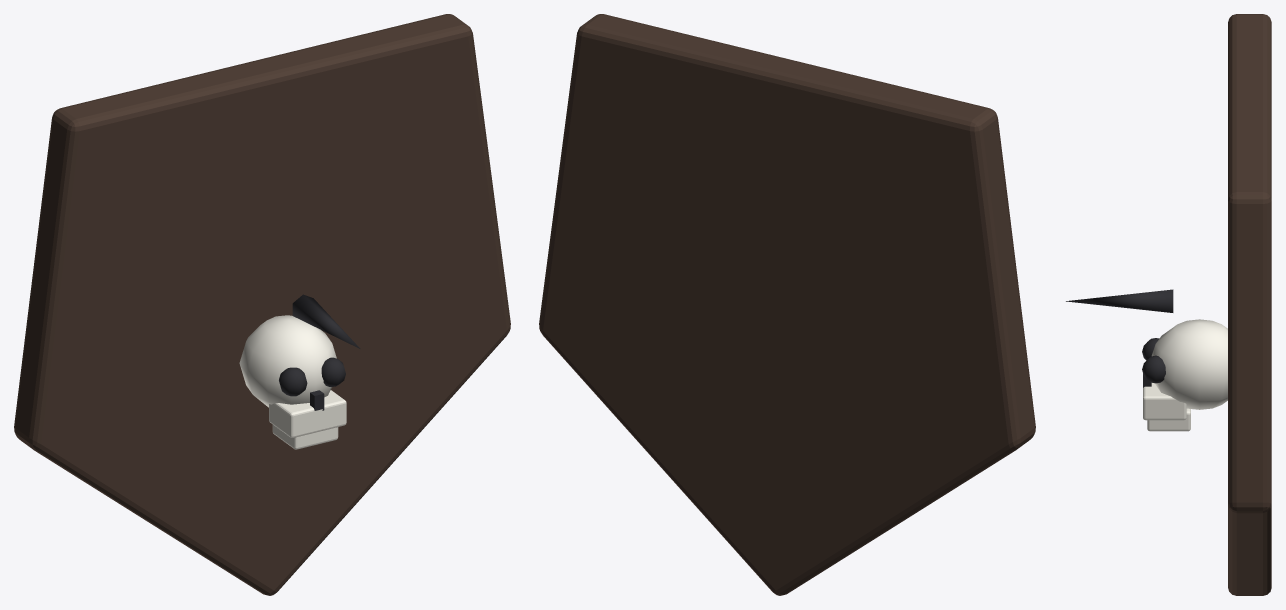
The model's file is skull_mount_raven.glb.
3 renders of one model, left to right at view 1: azimuth 30°, elevation 25°; view 2: azimuth 150°, elevation 25°; view 3: azimuth 270°, elevation 25°, orthographic. The views are drawn at different scales.
Parts seen in each view (by area): view 1: GD_skull_mount_raven__m0, GD_skull_mount_raven__m1, GD_skull_mount_raven__m2; view 2: GD_skull_mount_raven__m0; view 3: GD_skull_mount_raven__m0, GD_skull_mount_raven__m1, GD_skull_mount_raven__m2.
Boxes of the visible parts, x1,y1,x2,y2 form: GD_skull_mount_raven__m0: (14,14,510,595); GD_skull_mount_raven__m1: (239,315,346,449); GD_skull_mount_raven__m2: (279,294,360,410); GD_skull_mount_raven__m0: (539,14,1035,595); GD_skull_mount_raven__m0: (1228,14,1271,595); GD_skull_mount_raven__m1: (1143,319,1227,431); GD_skull_mount_raven__m2: (1066,289,1173,387).
Bounding box in the file's own units: 0.4779 × 0.4968 × 0.19.
